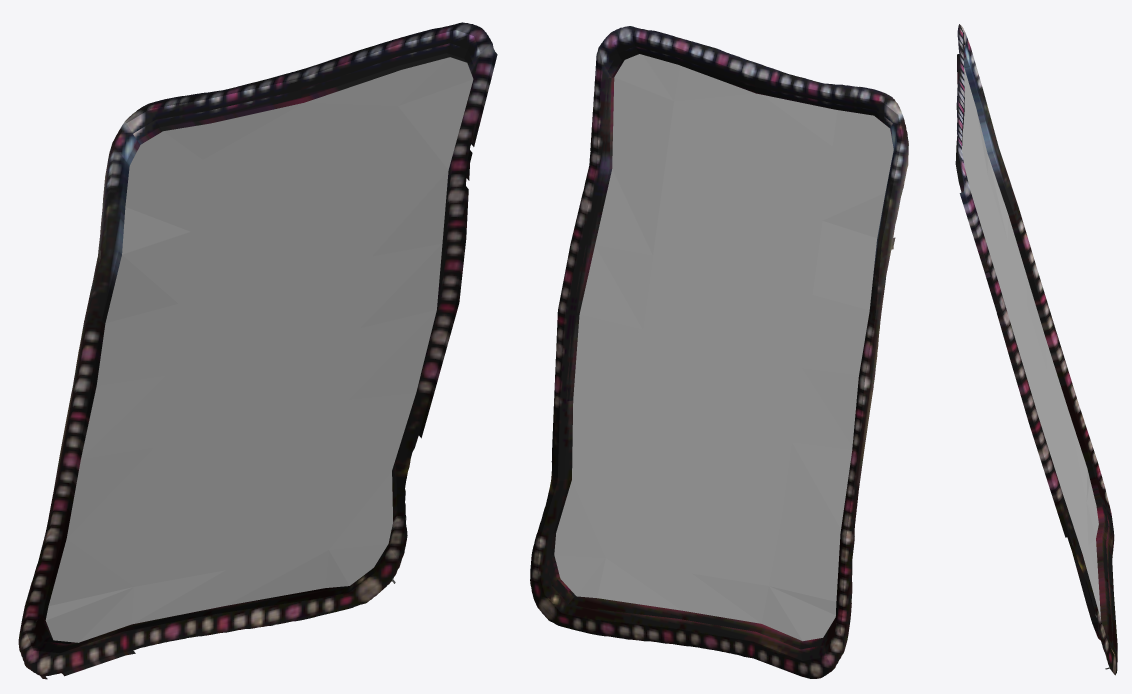
Rendered from Espejo02.fbx.
3 views of the same model, side by side, from view 1: azimuth 30°, elevation 25°; view 2: azimuth 150°, elevation 25°; view 3: azimuth 270°, elevation 25° (orthographic). The views are drawn at different scales.
Visible parts, largest first — view 1: Espejo02; view 2: Espejo02; view 3: Espejo02.
Boxes of the visible parts, <box> form: Espejo02: <box>18,22,497,679</box>; Espejo02: <box>530,26,908,678</box>; Espejo02: <box>955,24,1117,675</box>.
Size of the model in its own units: 45 by 72.46 by 20.45.
